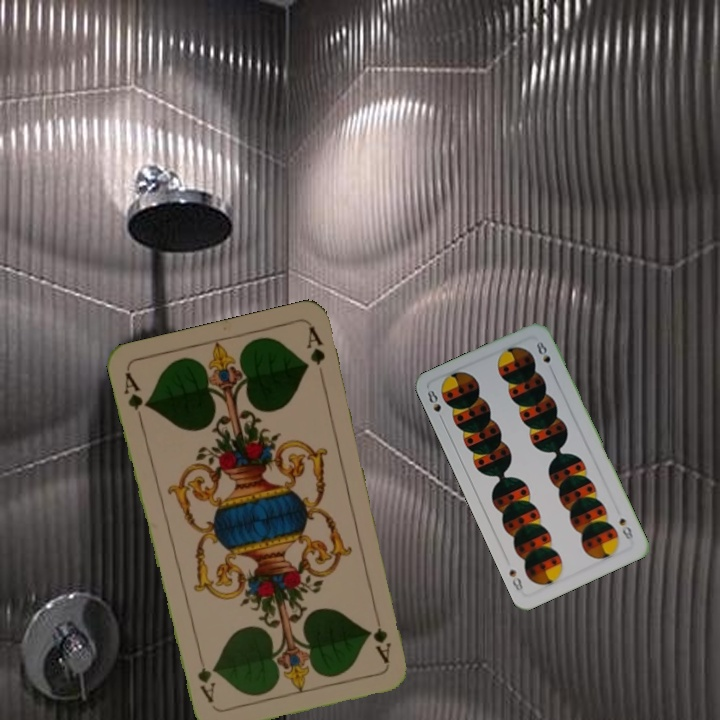GA: (119, 368, 151, 426), (369, 623, 394, 666)
S8: (423, 386, 447, 425), (615, 514, 636, 544)
